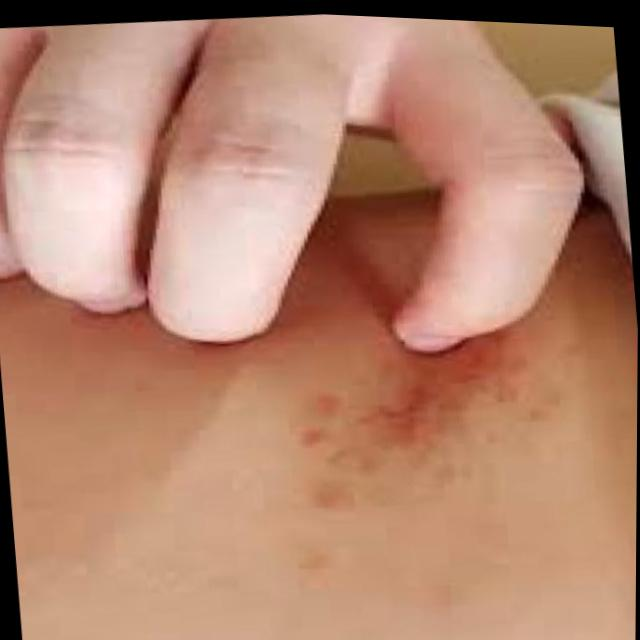Eczema: (282, 316, 586, 547)
